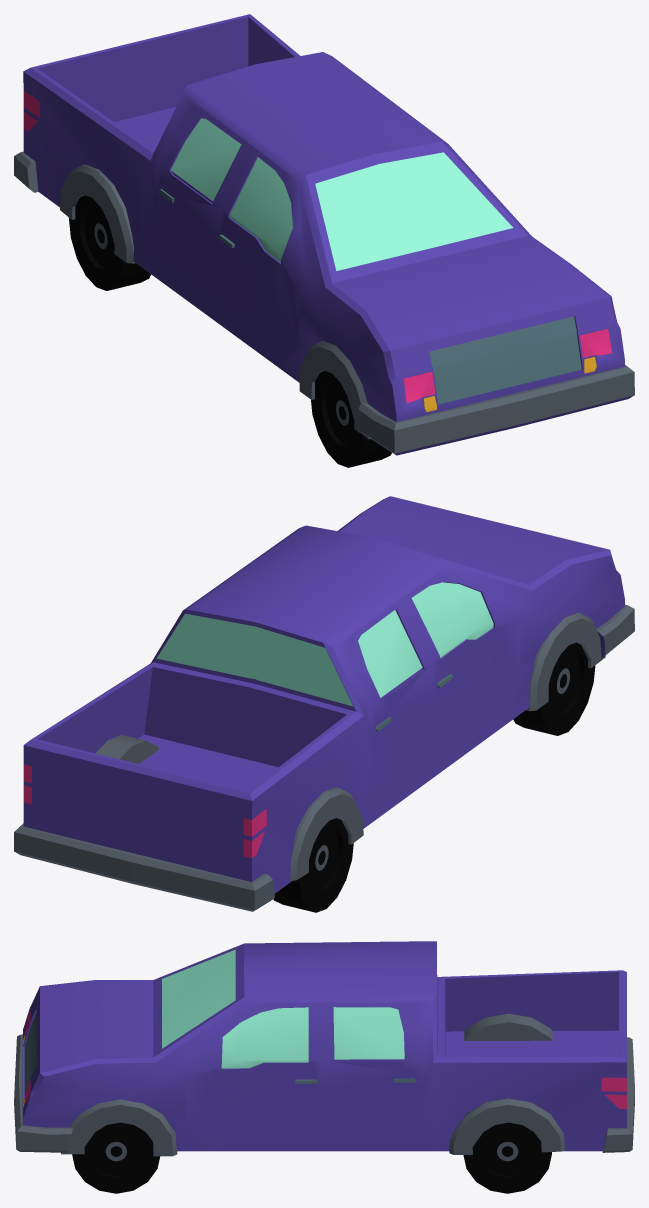
The model's file is PurpleTruck.fbx.
3 renders of one model, top to bottom at view 1: azimuth 30°, elevation 25°; view 2: azimuth 150°, elevation 25°; view 3: azimuth 270°, elevation 25°, orthographic. The views are drawn at different scales.
Visible parts, largest first — view 1: PurpleTruck; view 2: PurpleTruck; view 3: PurpleTruck.
Boxes of the visible parts, bbox=[...] form: PurpleTruck: bbox=[14, 14, 634, 467]; PurpleTruck: bbox=[14, 496, 634, 912]; PurpleTruck: bbox=[14, 941, 634, 1193].
Size of the model in its own units: 581 by 215 by 190.
